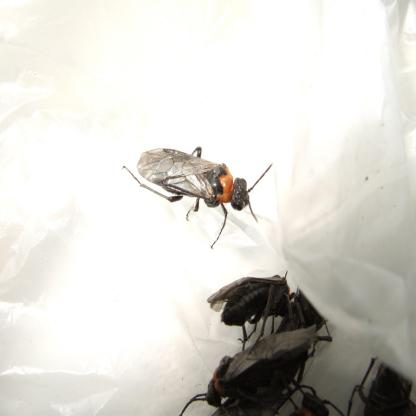sawfly: (122, 137, 272, 253), (180, 318, 318, 416), (205, 268, 311, 348)
